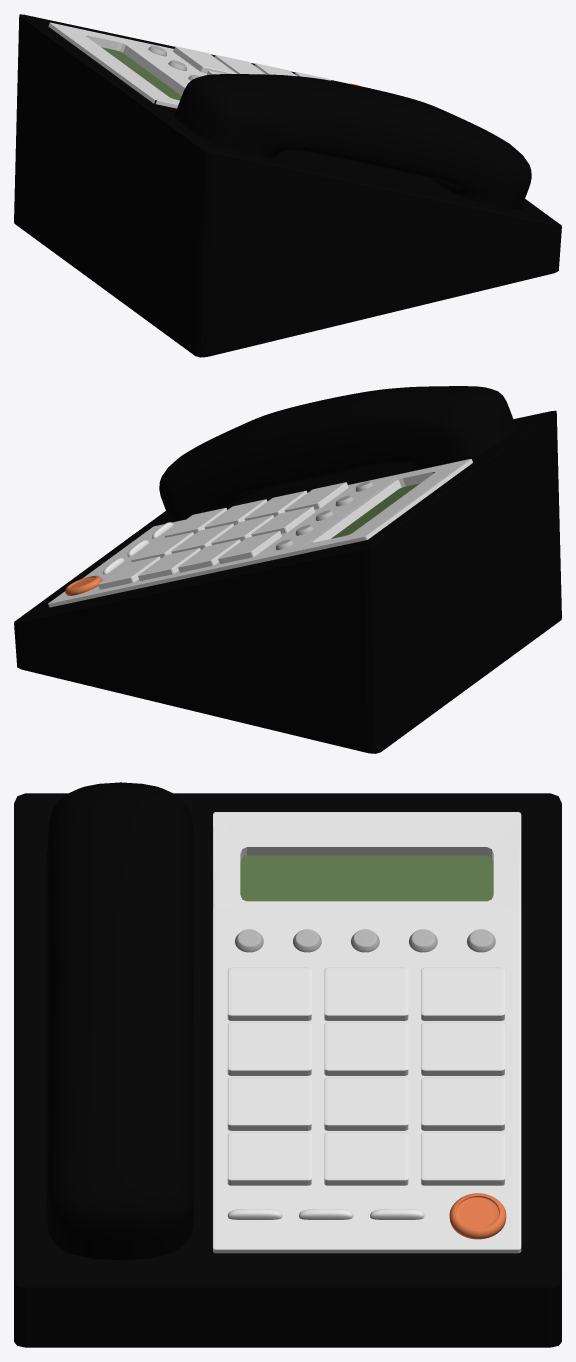
The model's file is telephone.fbx.
3 views of the same model, one above another, from view 1: azimuth 30°, elevation 25°; view 2: azimuth 150°, elevation 25°; view 3: azimuth 270°, elevation 25° (orthographic). The views are drawn at different scales.
Parts seen in each view (by area): view 1: Cube.002, Cube, Cube.001; view 2: Cube.002, Cube, Cube.001, Cylinder.001, Cube.003, Cylinder; view 3: Cube.002, Cube, Cube.001, Cylinder.001, Cylinder, Cube.003.
Boxes of the visible parts, box(x1,y1,x2,y2) form: Cube.002: box(14, 14, 561, 357); Cube: box(174, 74, 531, 209); Cube.001: box(173, 46, 331, 80); Cube.002: box(14, 410, 561, 753); Cube: box(159, 386, 516, 521); Cube.001: box(98, 482, 348, 589); Cylinder.001: box(275, 481, 374, 550); Cube.003: box(103, 522, 173, 574); Cylinder: box(65, 575, 102, 595); Cube.002: box(14, 793, 561, 1347); Cube: box(47, 782, 193, 1260); Cube.001: box(227, 967, 504, 1185); Cylinder.001: box(235, 929, 495, 952); Cylinder: box(449, 1193, 506, 1239); Cube.003: box(227, 1209, 424, 1219).
Size of the model in its own units: 1125 by 692 by 1005.
